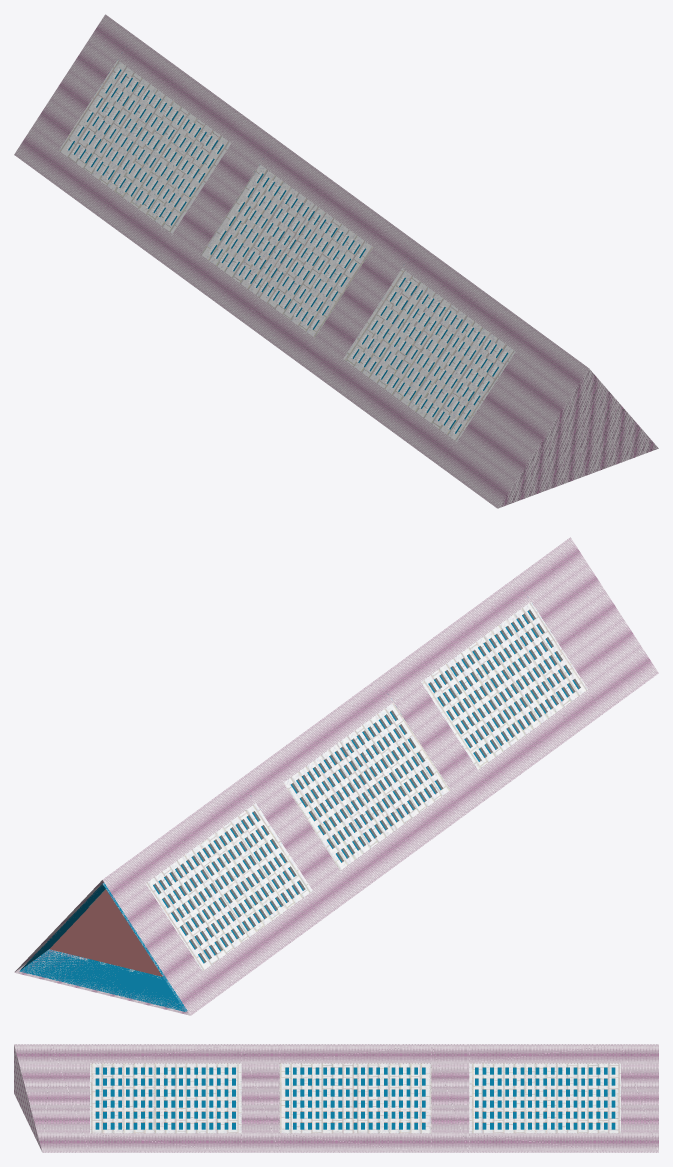
File: Sky066.obj
3 renders of one model, top to bottom at view 1: azimuth 30°, elevation 25°; view 2: azimuth 150°, elevation 25°; view 3: azimuth 270°, elevation 25°, orthographic. The views are drawn at different scales.
Visible parts, largest first — view 1: wall_02, wall_01, frame_01, frame_02, wall_03, frame_04, glass_01, frame_03; view 2: wall_01, wall_02, frame_01, frame_02, glass_01, frame_04, wall_03, slab_01, frame_03; view 3: wall_02, wall_01, frame_01, frame_02, glass_01, wall_03, frame_03.
Part boxes in pixels (x1,y1,x2,y2): wall_02: (42,35,531,466); wall_01: (14,14,560,487); frame_01: (59,60,515,441); frame_02: (69,70,505,431); wall_03: (469,347,658,508); frame_04: (66,68,506,432); glass_01: (68,69,508,433); frame_03: (62,65,512,436); wall_01: (14,557,631,1015); wall_02: (47,577,603,995); frame_01: (85,602,587,977); frame_02: (156,611,578,961); glass_01: (19,610,578,1011); frame_04: (102,609,580,962); wall_03: (543,537,658,692); slab_01: (49,890,162,976); frame_03: (90,606,584,975); wall_02: (90,1044,620,1152); wall_01: (52,1044,658,1152); frame_01: (90,1063,620,1133); frame_02: (99,1067,611,1129); glass_01: (95,1067,615,1129); wall_03: (14,1044,51,1152); frame_03: (90,1067,620,1129).
Bounding box in the file's own units: 4451 × 2754 × 20400.
4 materials, 2 textured.
